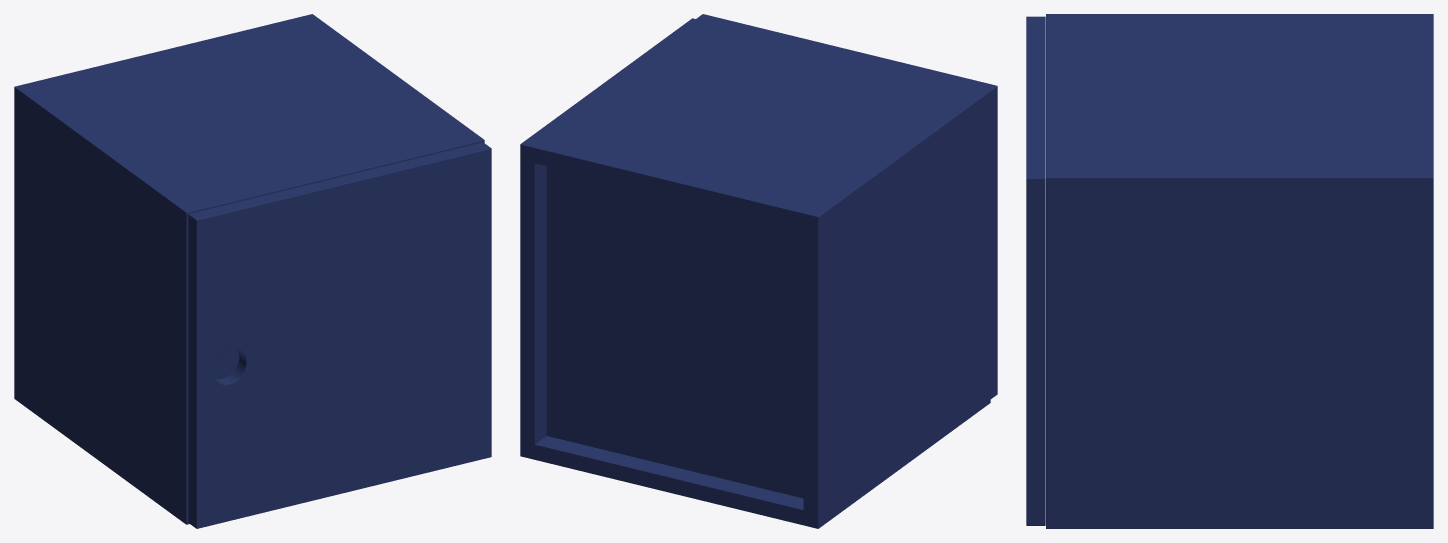
The model's file is MOD_1X1_D_B_IZQ_AF.glb.
3 renders of one model, left to right at view 1: azimuth 30°, elevation 25°; view 2: azimuth 150°, elevation 25°; view 3: azimuth 270°, elevation 25°, orthographic. The views are drawn at different scales.
Bounding box in the file's own units: 360 × 360 × 378.
